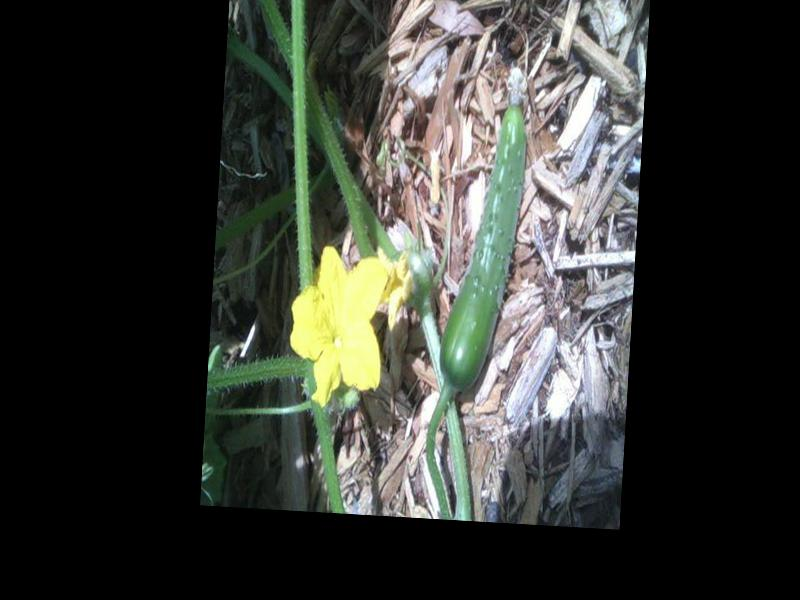Cucumber: (437, 70, 533, 398)
